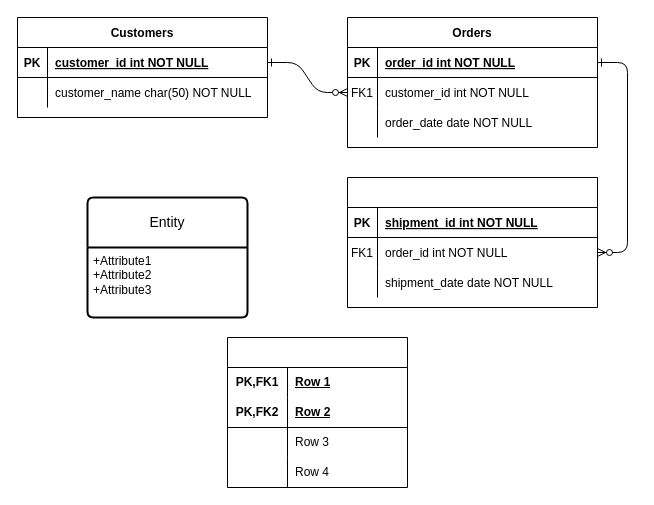
This 654x505 diagram has some shape labels left out. The shapes that lost their labels are listed below. From the top down, each one's box as (x1, y1, x2, y2) in pixels, then its label:
(346, 176, 598, 308): Shipments
(226, 336, 408, 488): Table
